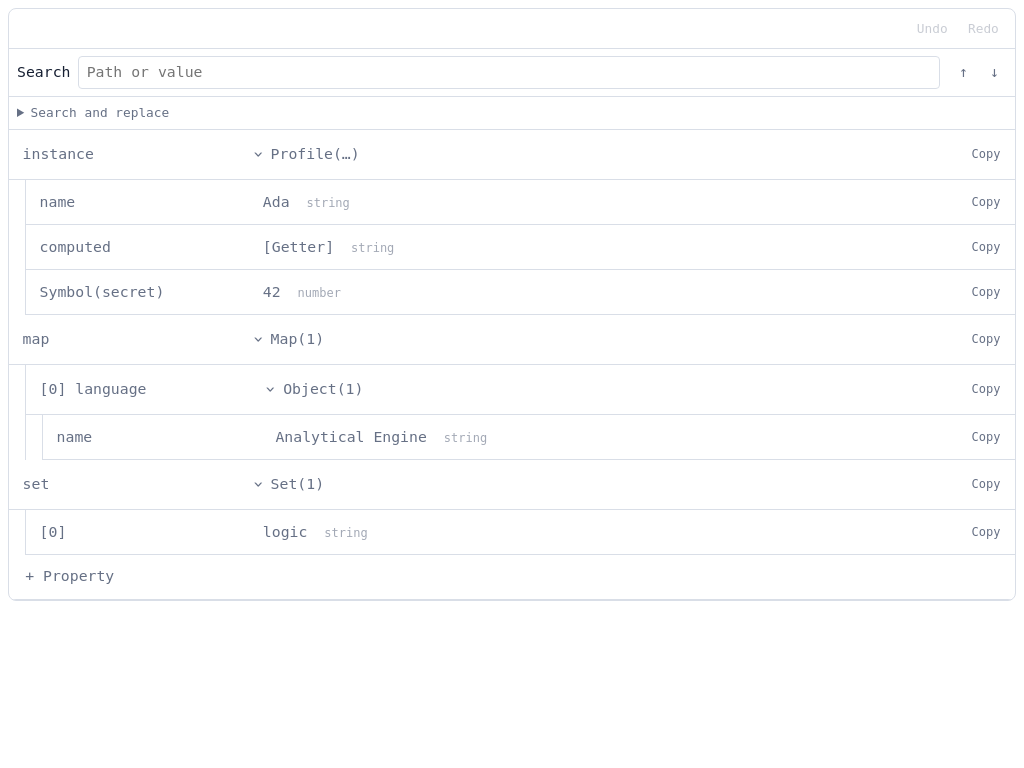
Test: ObjectEditor › recursively inspects maps, sets, instances, symbols, and accessors
Expected: the button "› Profile(…)" is shown, top-left (245, 136), bottom-right (368, 173)
Expected: the button "› Set(1)" is shown, top-left (245, 466), bottom-right (332, 503)
Click the button with aria-label "Collapse map".
click(288, 340)  # box top-left (245, 321), bottom-right (332, 358)
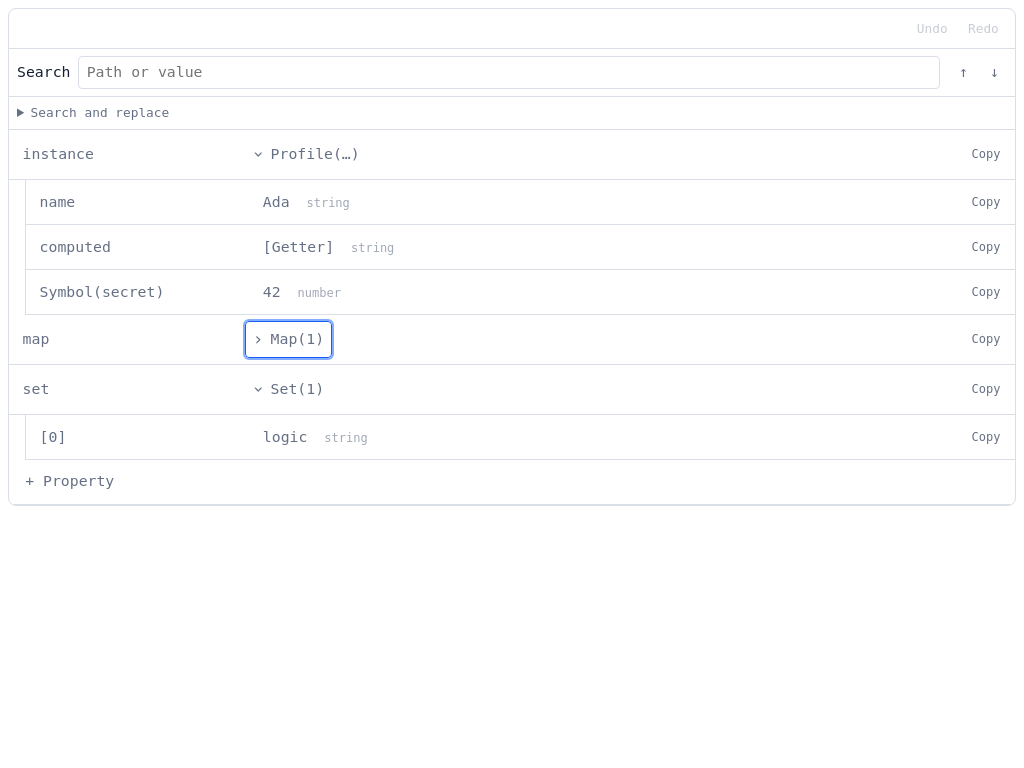
Expected: the text "Analytical Engine" is gone
Click the button with aria-label "Expand map".
click(288, 340)  # box top-left (245, 321), bottom-right (332, 358)
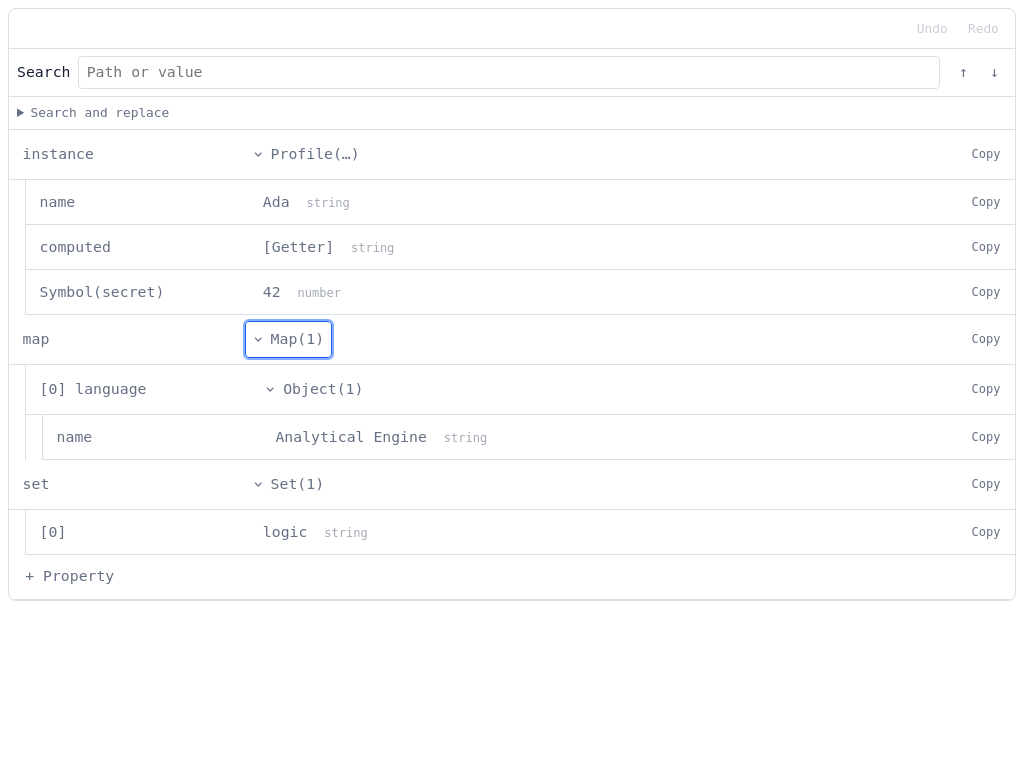
Expected: the text "Analytical Engine" is shown, top-left (275, 428), bottom-right (436, 445)
